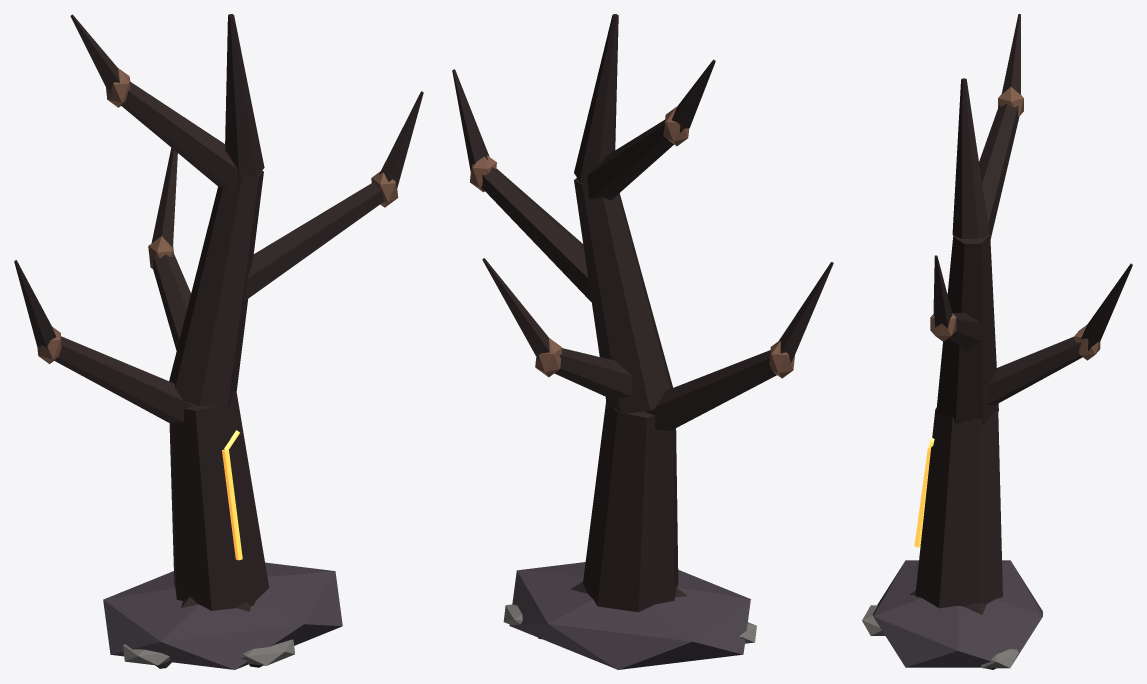
Rendered from rift_ashen_tree.glb.
3 renders of one model, left to right at view 1: azimuth 30°, elevation 25°; view 2: azimuth 150°, elevation 25°; view 3: azimuth 270°, elevation 25°, orthographic. The views are drawn at different scales.
Visible parts, largest first — view 1: rift_ashen_tree; view 2: rift_ashen_tree; view 3: rift_ashen_tree.
Boxes of the visible parts, <box> form: rift_ashen_tree: <box>14,14,423,669</box>; rift_ashen_tree: <box>452,14,833,669</box>; rift_ashen_tree: <box>862,14,1132,669</box>.
Size of the model in its own units: 1.41 by 2.17 by 0.9211.
